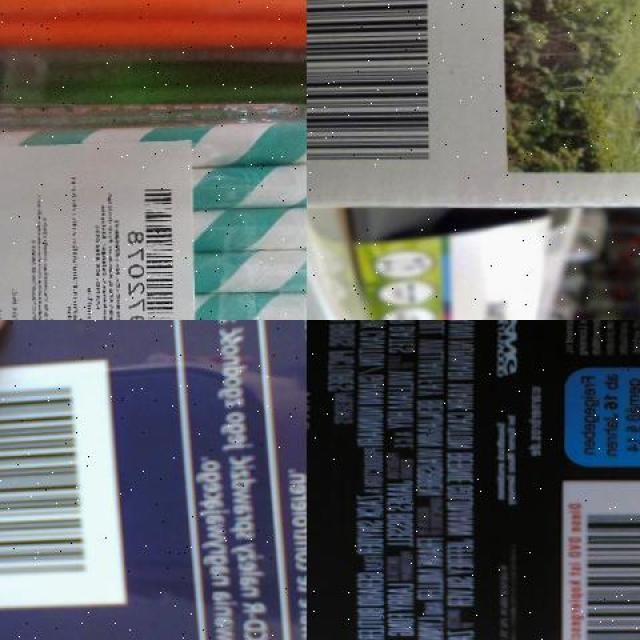Barcode: (0, 357, 133, 615), (306, 0, 444, 185), (561, 478, 639, 640), (128, 175, 183, 320)
